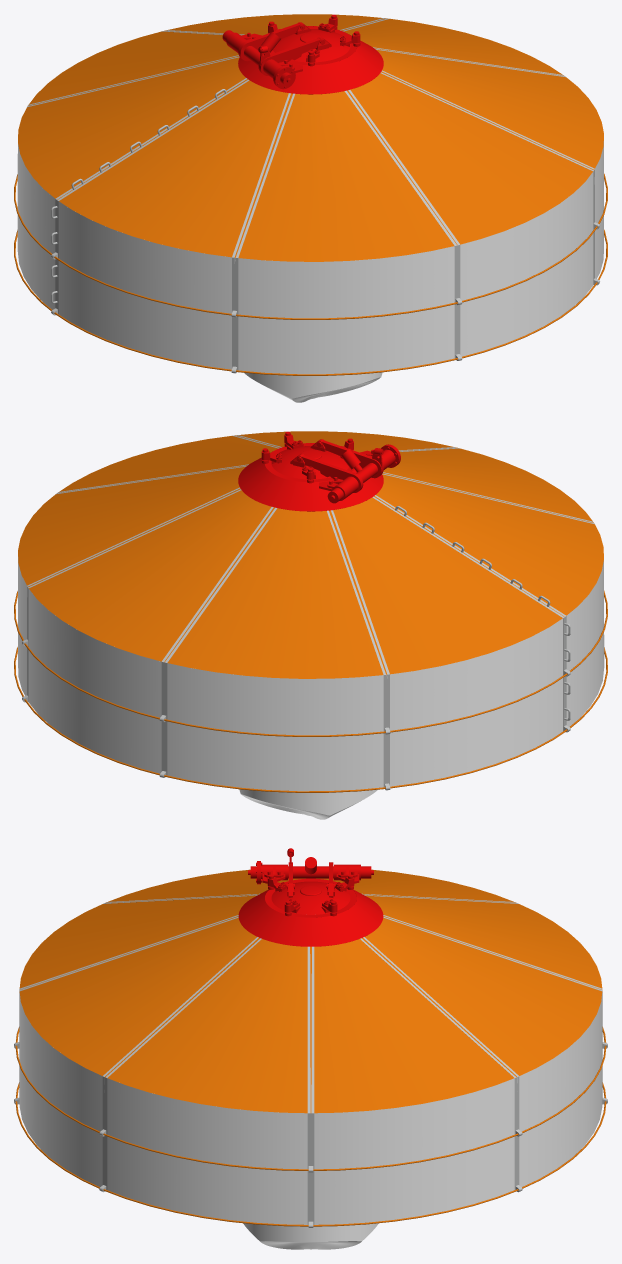
The model's file is model_escortplus.glb.
3 views of the same model, one above another, from view 1: azimuth 30°, elevation 25°; view 2: azimuth 150°, elevation 25°; view 3: azimuth 270°, elevation 25° (orthographic).
Parts seen in each view (by area): view 1: 整体图(E9D66B7A-4AE3-4399-8D1D-90398751EFB7), 整体图(27D7631A-49F8-48B3-93CD-3BA46E8B88CF), 整体图(78AC9E6B-D98A-4510-82C8-9630F30B0974), 整体图(2330B01E-C03A-46DE-B71E-119D12D8D76A), 整体图(4567BB1C-873C-40A3-8DF0-FB3DC9FE89DF), 整体图(45B0270E-2775-4640-858C-A98F00EB9FB8), 整体图(559A4FAF-E04B-4D31-BF62-C551436EF6B2), 整体图(C7BF3990-718A-4889-ACD3-A2963AB90D3E), 整体图(2536C947-D2B1-4973-ADE0-4D4927220B01), 整体图(A9F28068-B414-4934-8F1F-EF3665D77604), 整体图(98341DA1-09E7-4DF0-B18D-C53BEAC71AB4), 整体图(0E9F4CA4-2F49-4D01-9F35-51D42996D213) (+2 smaller); view 2: 整体图(E9D66B7A-4AE3-4399-8D1D-90398751EFB7), 整体图(27D7631A-49F8-48B3-93CD-3BA46E8B88CF), 整体图(78AC9E6B-D98A-4510-82C8-9630F30B0974), 整体图(2330B01E-C03A-46DE-B71E-119D12D8D76A), 整体图(6D7006F1-E5FA-4FC3-86B4-42F37CE53B29), 整体图(1C26D1C2-A8EA-4546-962E-FC315E9FFA32), 整体图(559A4FAF-E04B-4D31-BF62-C551436EF6B2), 整体图(C7BF3990-718A-4889-ACD3-A2963AB90D3E), 整体图(2536C947-D2B1-4973-ADE0-4D4927220B01), 整体图(A9F28068-B414-4934-8F1F-EF3665D77604), 整体图(CBE57167-9695-455F-B97B-6B4AF8DC3727), 整体图(437F527C-1135-4236-A1F0-0D05D763EF3A) (+2 smaller); view 3: 整体图(E9D66B7A-4AE3-4399-8D1D-90398751EFB7), 整体图(27D7631A-49F8-48B3-93CD-3BA46E8B88CF), 整体图(78AC9E6B-D98A-4510-82C8-9630F30B0974), 整体图(2330B01E-C03A-46DE-B71E-119D12D8D76A), 整体图(CF4F646A-EEAF-43AB-903F-60FD7EE263B4), 整体图(C7BF3990-718A-4889-ACD3-A2963AB90D3E), 整体图(559A4FAF-E04B-4D31-BF62-C551436EF6B2), 整体图(98341DA1-09E7-4DF0-B18D-C53BEAC71AB4), 整体图(CBE57167-9695-455F-B97B-6B4AF8DC3727), 整体图(A9F28068-B414-4934-8F1F-EF3665D77604), 整体图(4567BB1C-873C-40A3-8DF0-FB3DC9FE89DF), 整体图(6D7006F1-E5FA-4FC3-86B4-42F37CE53B29) (+1 smaller).
Boxes of the visible parts, x1=… form: 整体图(E9D66B7A-4AE3-4399-8D1D-90398751EFB7): x1=18, y1=14, x2=603, y2=261; 整体图(27D7631A-49F8-48B3-93CD-3BA46E8B88CF): x1=17, y1=141, x2=603, y2=374; 整体图(78AC9E6B-D98A-4510-82C8-9630F30B0974): x1=238, y1=26, x2=383, y2=94; 整体图(2330B01E-C03A-46DE-B71E-119D12D8D76A): x1=244, y1=261, x2=382, y2=402; 整体图(4567BB1C-873C-40A3-8DF0-FB3DC9FE89DF): x1=344, y1=90, x2=460, y2=358; 整体图(45B0270E-2775-4640-858C-A98F00EB9FB8): x1=232, y1=93, x2=294, y2=370; 整体图(559A4FAF-E04B-4D31-BF62-C551436EF6B2): x1=14, y1=173, x2=607, y2=319; 整体图(C7BF3990-718A-4889-ACD3-A2963AB90D3E): x1=14, y1=229, x2=607, y2=375; 整体图(2536C947-D2B1-4973-ADE0-4D4927220B01): x1=55, y1=78, x2=249, y2=313; 整体图(A9F28068-B414-4934-8F1F-EF3665D77604): x1=273, y1=29, x2=350, y2=62; 整体图(98341DA1-09E7-4DF0-B18D-C53BEAC71AB4): x1=380, y1=70, x2=594, y2=284; 整体图(0E9F4CA4-2F49-4D01-9F35-51D42996D213): x1=258, y1=37, x2=331, y2=75; 整体图(E9D66B7A-4AE3-4399-8D1D-90398751EFB7): x1=18, y1=431, x2=603, y2=678; 整体图(27D7631A-49F8-48B3-93CD-3BA46E8B88CF): x1=18, y1=557, x2=604, y2=791; 整体图(78AC9E6B-D98A-4510-82C8-9630F30B0974): x1=238, y1=443, x2=383, y2=511; 整体图(2330B01E-C03A-46DE-B71E-119D12D8D76A): x1=239, y1=678, x2=377, y2=819; 整体图(6D7006F1-E5FA-4FC3-86B4-42F37CE53B29): x1=161, y1=507, x2=277, y2=775; 整体图(1C26D1C2-A8EA-4546-962E-FC315E9FFA32): x1=327, y1=510, x2=389, y2=787; 整体图(559A4FAF-E04B-4D31-BF62-C551436EF6B2): x1=14, y1=590, x2=607, y2=736; 整体图(C7BF3990-718A-4889-ACD3-A2963AB90D3E): x1=14, y1=647, x2=607, y2=792; 整体图(2536C947-D2B1-4973-ADE0-4D4927220B01): x1=372, y1=495, x2=566, y2=731; 整体图(A9F28068-B414-4934-8F1F-EF3665D77604): x1=271, y1=446, x2=348, y2=479; 整体图(CBE57167-9695-455F-B97B-6B4AF8DC3727): x1=27, y1=487, x2=241, y2=701; 整体图(437F527C-1135-4236-A1F0-0D05D763EF3A): x1=290, y1=454, x2=363, y2=492; 整体图(E9D66B7A-4AE3-4399-8D1D-90398751EFB7): x1=19, y1=869, x2=602, y2=1113; 整体图(27D7631A-49F8-48B3-93CD-3BA46E8B88CF): x1=19, y1=993, x2=602, y2=1224; 整体图(78AC9E6B-D98A-4510-82C8-9630F30B0974): x1=238, y1=878, x2=383, y2=946; 整体图(2330B01E-C03A-46DE-B71E-119D12D8D76A): x1=243, y1=1223, x2=378, y2=1249; 整体图(CF4F646A-EEAF-43AB-903F-60FD7EE263B4): x1=307, y1=946, x2=314, y2=1224; 整体图(C7BF3990-718A-4889-ACD3-A2963AB90D3E): x1=15, y1=1082, x2=606, y2=1226; 整体图(559A4FAF-E04B-4D31-BF62-C551436EF6B2): x1=15, y1=1027, x2=606, y2=1170; 整体图(98341DA1-09E7-4DF0-B18D-C53BEAC71AB4): x1=102, y1=937, x2=261, y2=1189; 整体图(CBE57167-9695-455F-B97B-6B4AF8DC3727): x1=360, y1=937, x2=519, y2=1189; 整体图(A9F28068-B414-4934-8F1F-EF3665D77604): x1=271, y1=881, x2=350, y2=914; 整体图(4567BB1C-873C-40A3-8DF0-FB3DC9FE89DF): x1=19, y1=915, x2=238, y2=1104; 整体图(6D7006F1-E5FA-4FC3-86B4-42F37CE53B29): x1=383, y1=915, x2=602, y2=1104.
Bounding box in the file's own units: 0.0204 × 0.0141 × 0.0204.
